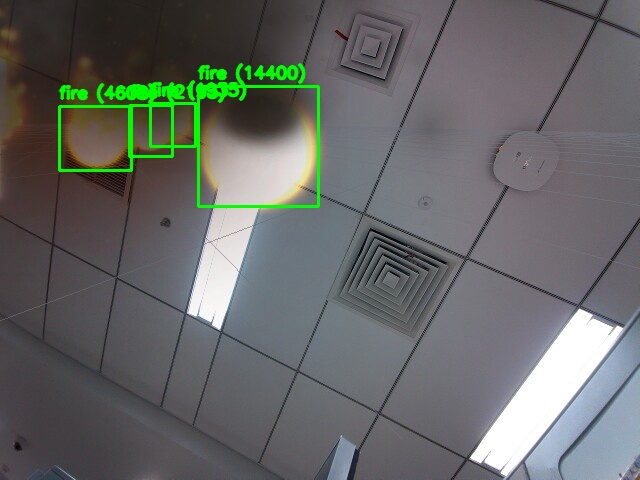fire: (198, 86, 318, 206), (59, 106, 131, 170), (129, 105, 172, 156), (150, 103, 195, 146)
